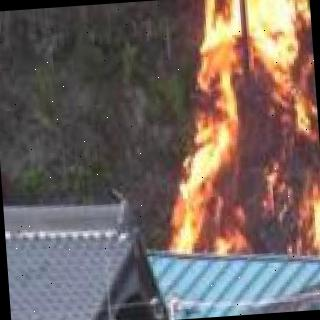fire: (155, 0, 320, 262)
